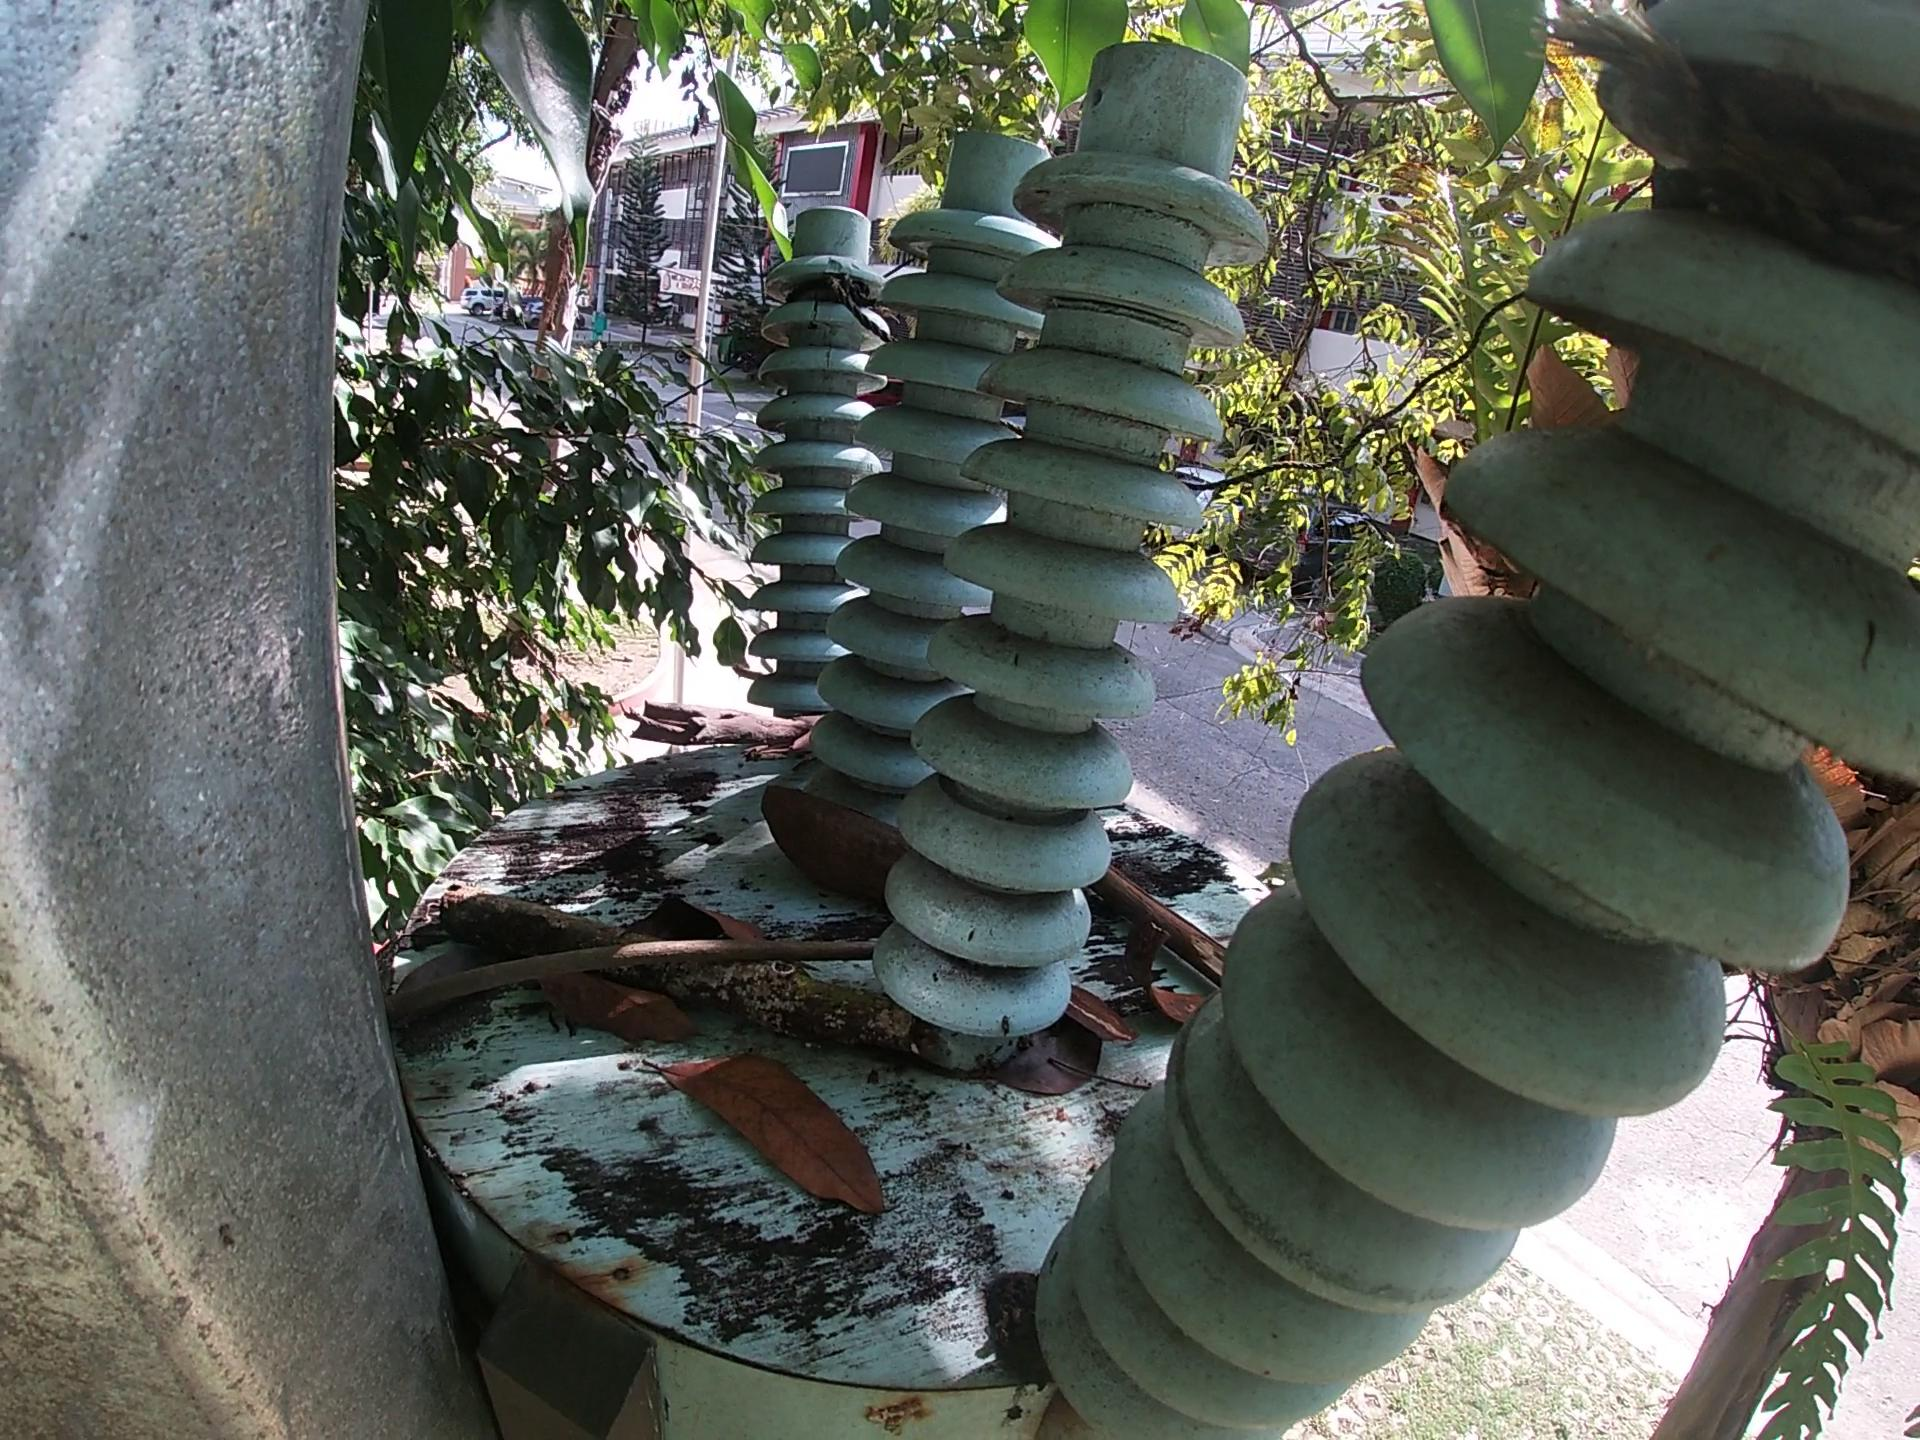leaf: (639, 1053, 898, 1227), (537, 971, 700, 1045), (969, 1021, 1110, 1104), (614, 892, 770, 939)
mahogany fruit: (754, 782, 909, 905), (1125, 915, 1205, 1026), (1061, 982, 1132, 1051)
tree branch: (435, 888, 924, 1060), (376, 938, 887, 1026), (1092, 867, 1231, 988), (615, 694, 825, 764)
